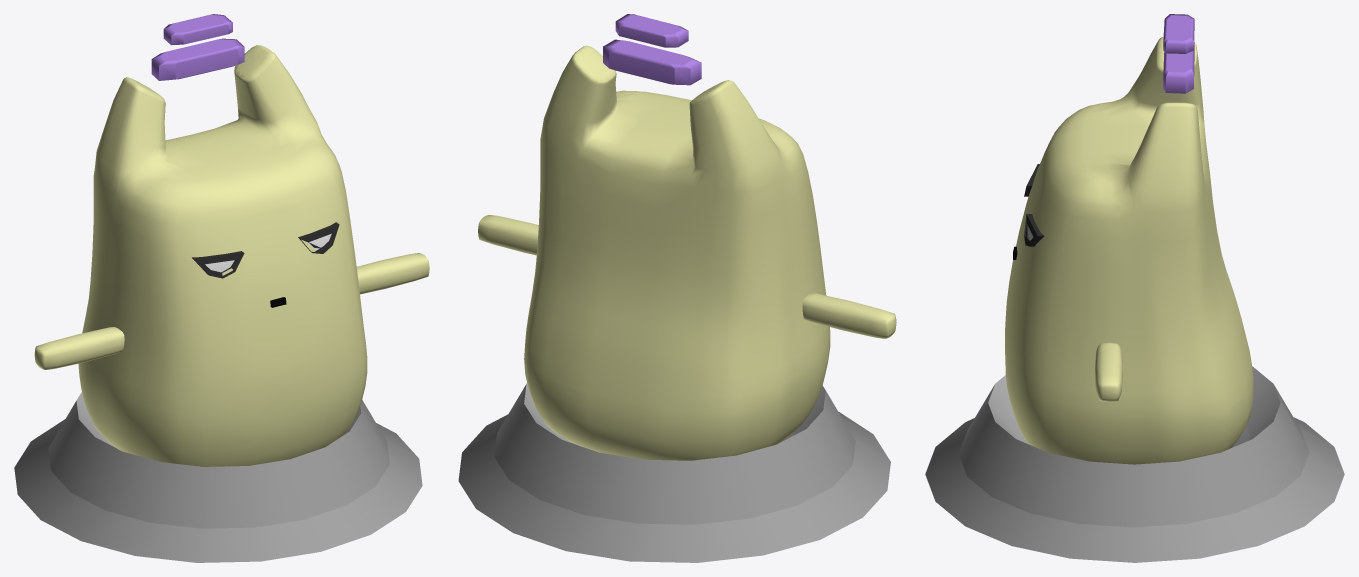
The model's file is alienBuddy_wHover.fbx.
The picture shows the model from 3 angles, left to right: view 1: azimuth 30°, elevation 25°; view 2: azimuth 150°, elevation 25°; view 3: azimuth 270°, elevation 25°; orthographic projection. The views are drawn at different scales.
Parts seen in each view (by area): view 1: polySurface145; view 2: polySurface145; view 3: polySurface145.
Boxes of the visible parts, left/top/right/bottom form: polySurface145: left=14, top=14, right=429, bottom=562; polySurface145: left=458, top=14, right=896, bottom=562; polySurface145: left=925, top=14, right=1344, bottom=562.
Size of the model in its own units: 192 by 205 by 175.
